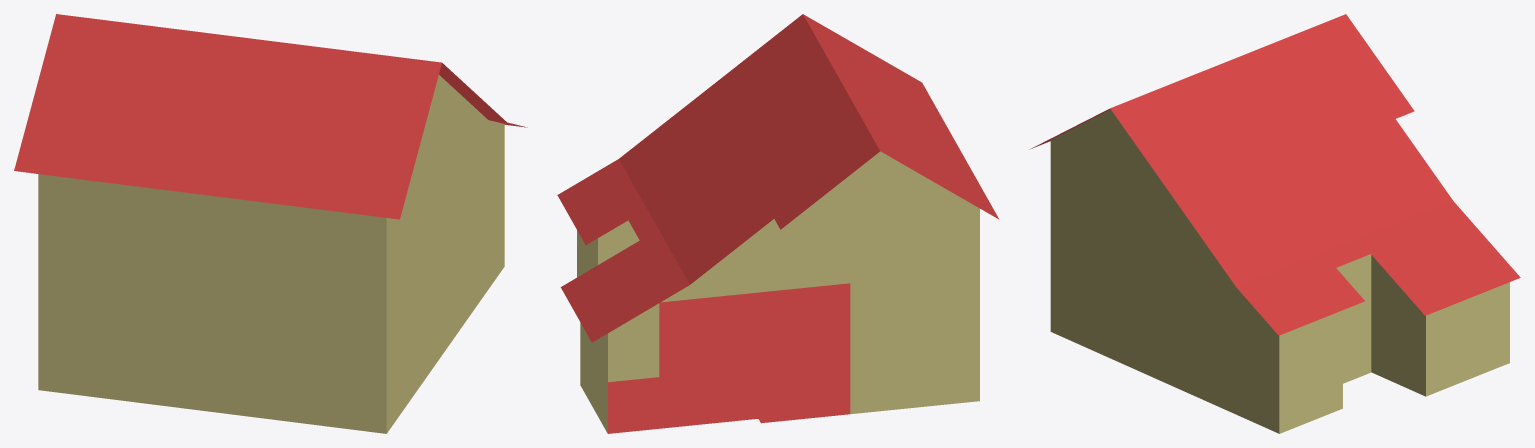
3 views of the same model, side by side, from view 1: azimuth 30°, elevation 25°; view 2: azimuth 150°, elevation 25°; view 3: azimuth 270°, elevation 25° (orthographic). The views are drawn at different scales.
Size of the model in its own units: 23.11 by 23.32 by 13.56.
